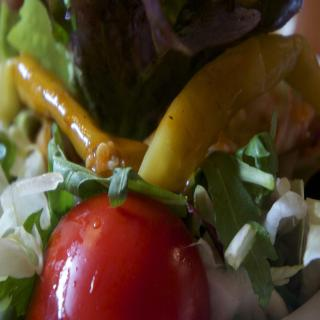tomato: (30, 190, 218, 316)
